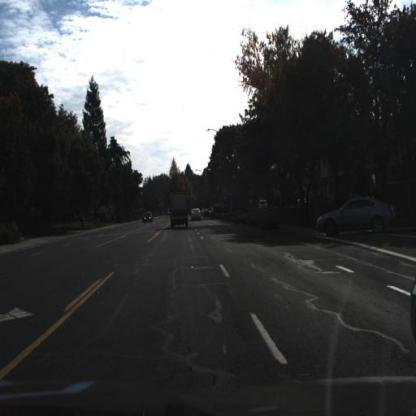car: (314, 195, 396, 242), (170, 189, 192, 234), (190, 203, 202, 222), (258, 198, 270, 211), (142, 212, 152, 224)
truck: (167, 186, 190, 234)
